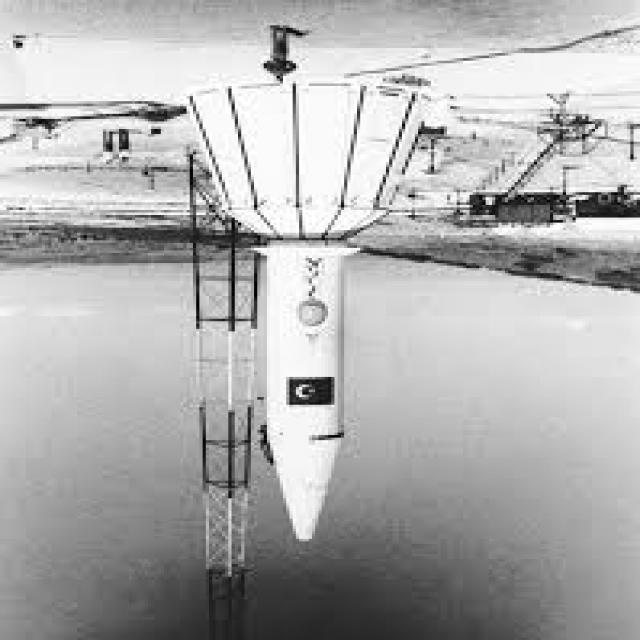missile: (188, 79, 414, 539)
